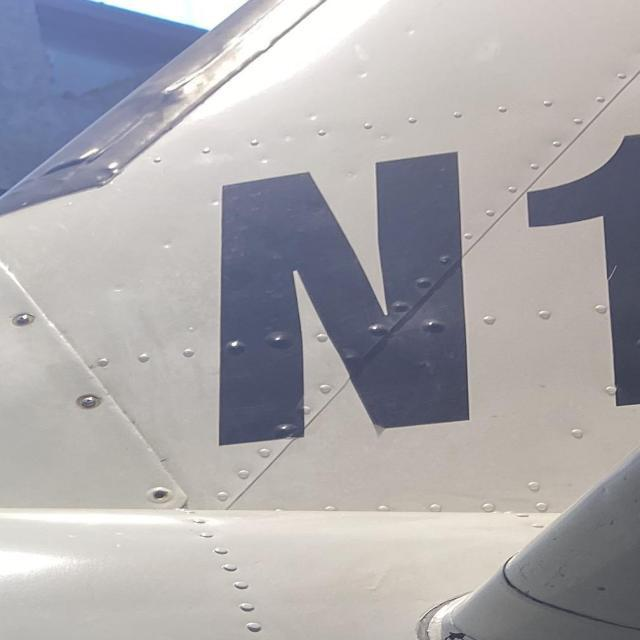Missing-head: (149, 488, 172, 503)
